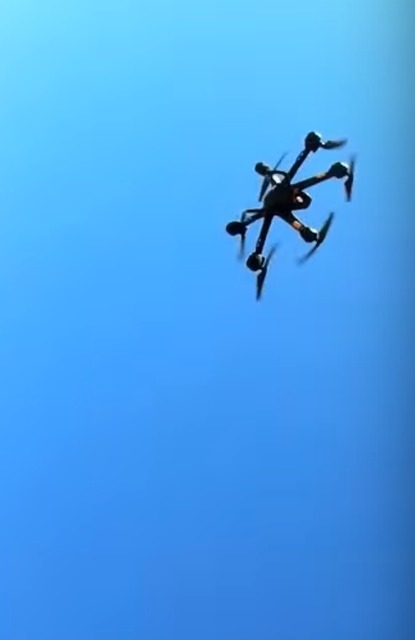drone: (225, 132, 359, 303)
